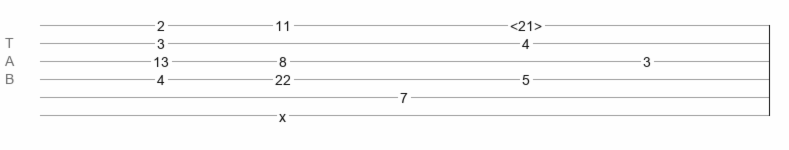11: (275, 18, 291, 28)
13: (153, 54, 169, 64)
2: (157, 18, 165, 28)
22: (275, 72, 291, 82)
3: (157, 36, 165, 46), (643, 54, 651, 64)
4: (157, 72, 165, 82), (522, 36, 530, 46)
5: (522, 72, 530, 82)
7: (400, 90, 408, 100)
8: (279, 54, 287, 64)
harmonic: (510, 18, 542, 28)
x: (279, 109, 286, 117)
